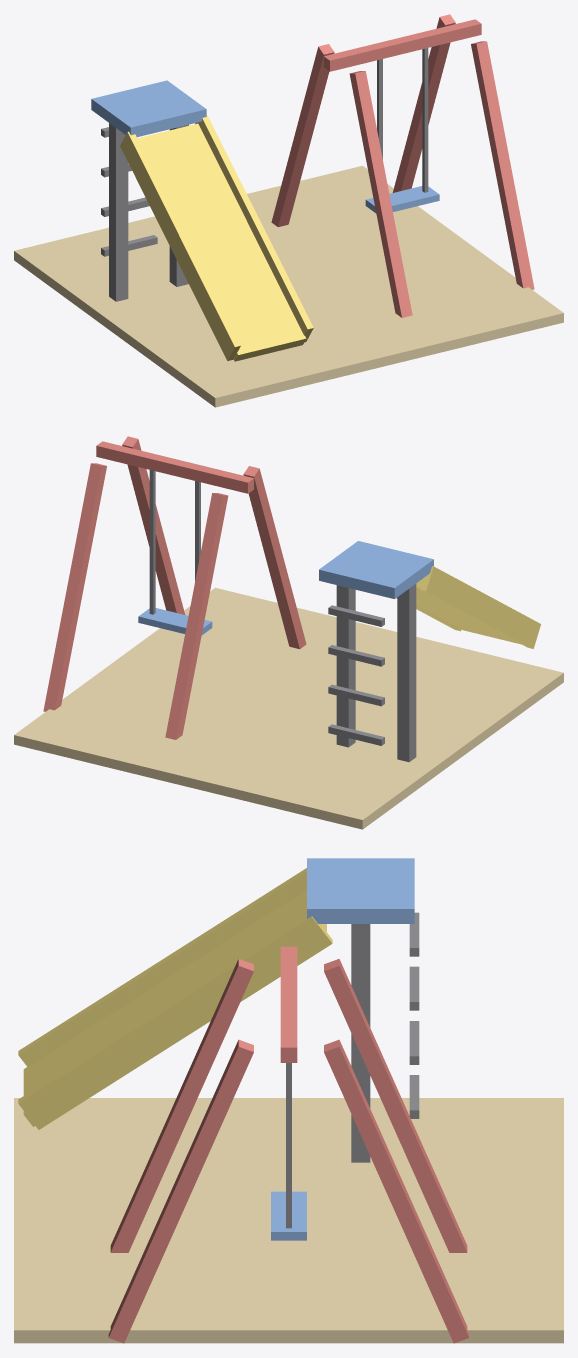
Rendered from playground.glb.
3 views of the same model, one above another, from view 1: azimuth 30°, elevation 25°; view 2: azimuth 150°, elevation 25°; view 3: azimuth 270°, elevation 25° (orthographic). The views are drawn at different scales.
Parts seen in each view (by area): view 1: playground; view 2: playground; view 3: playground.
Boxes of the visible parts, left/top/right/bottom form: playground: left=14, top=14, right=563, bottom=407; playground: left=14, top=436, right=563, bottom=829; playground: left=14, top=858, right=563, bottom=1343.
Size of the model in its own units: 4.8 by 2.82 by 4.6.
